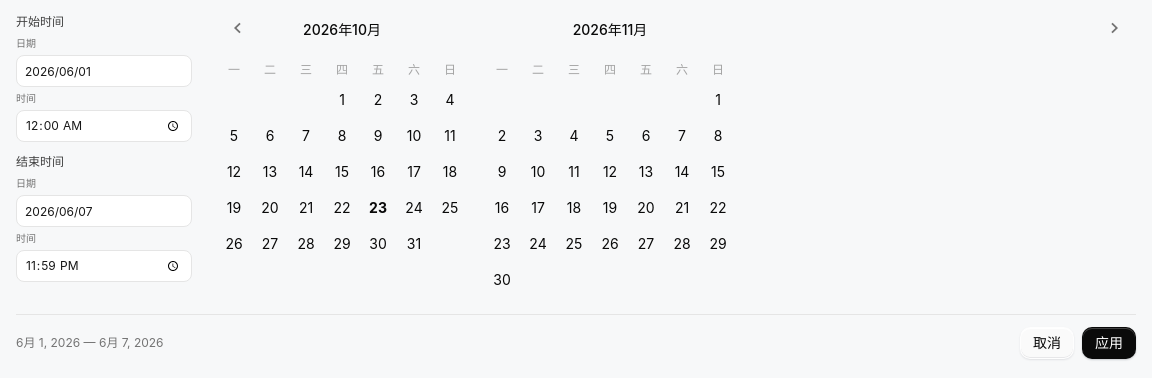
DateRangePopover › invalid time input resets to default on blur (start=00:00, end=23:59)
Type an invalid time (25:99)
Replace the text in the time field named "时间" with "25:99": (104, 126) [16,110,192,142]
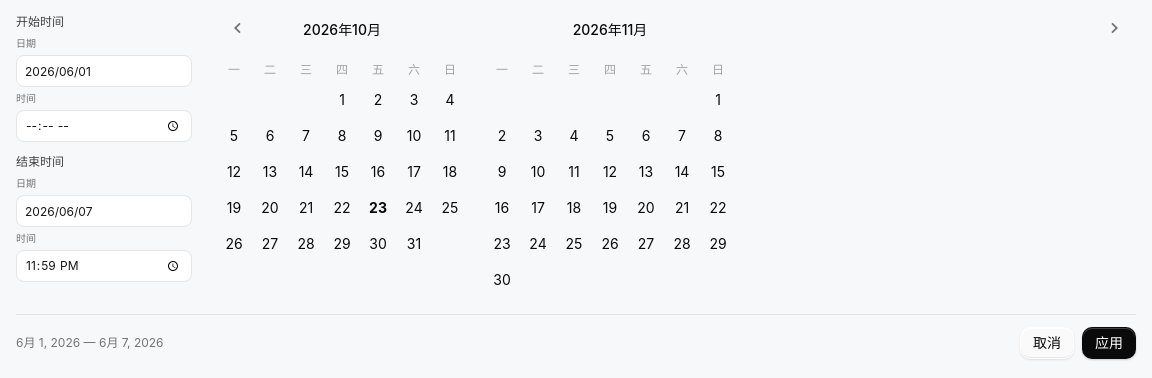
Leave the time field named "时间", box [16,110,192,142]
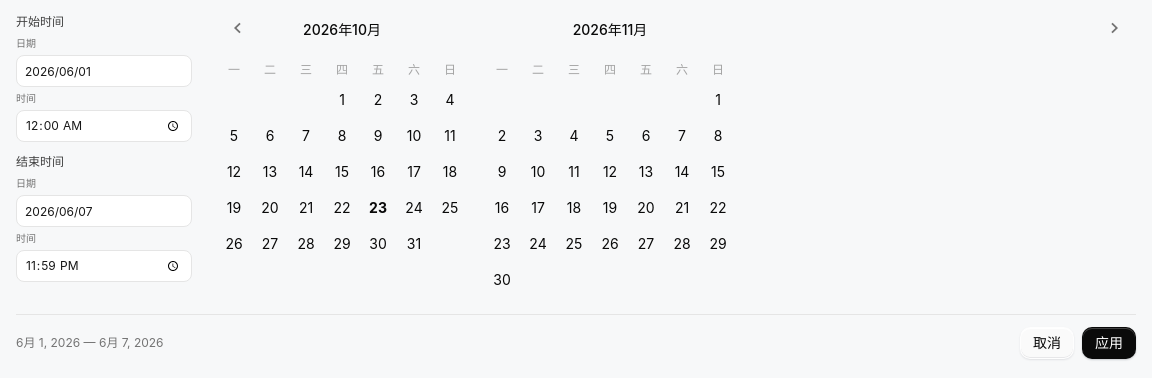
Expected: the time field named "时间" holds "00:00", [16,110,192,142]
End time invalid → reset to 23:59
Replace the text in the time field named "时间" with "99:99": (104, 266) [16,250,192,282]
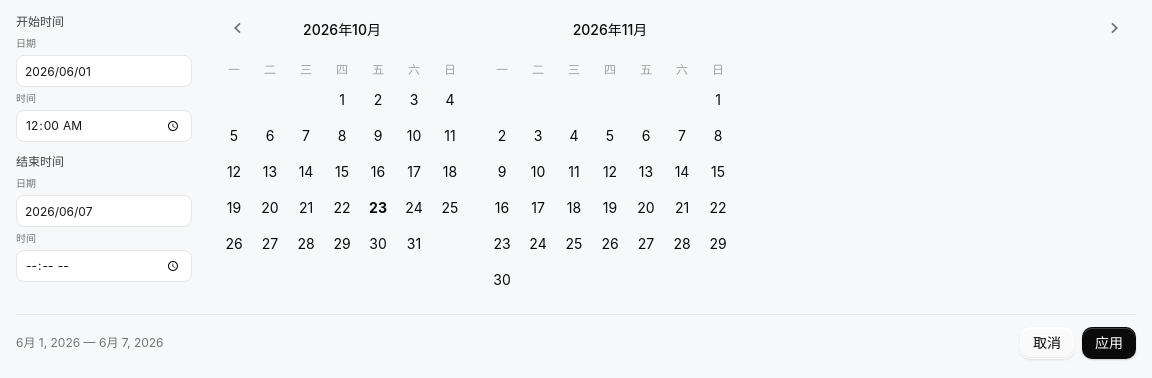
Leave the time field named "时间", box [16,250,192,282]
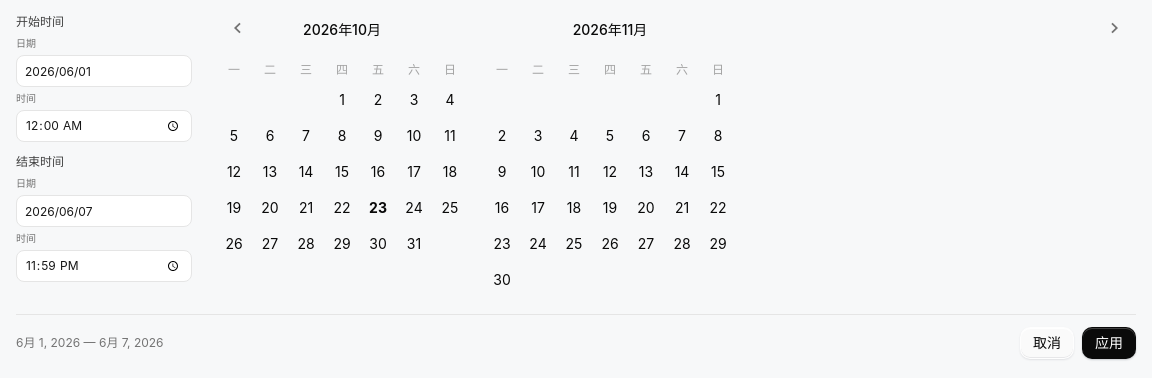
Expected: the time field named "时间" holds "23:59", [16,250,192,282]
